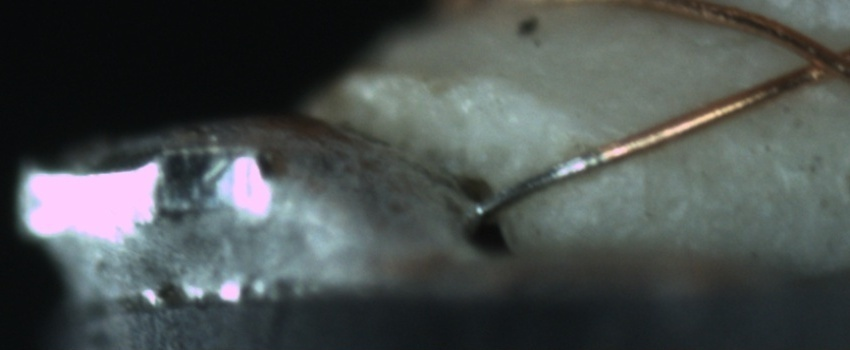CL: (780, 28, 848, 89)
TS: (474, 147, 605, 216)
TTCW: (469, 128, 631, 217)
